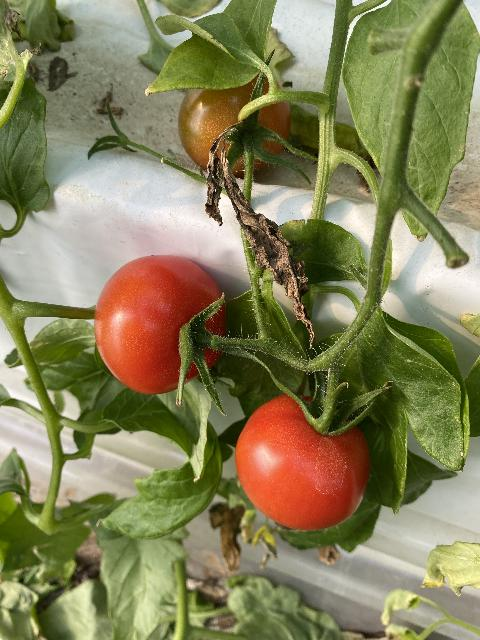l_fully_ripened: (234, 394, 370, 531), (94, 255, 226, 395)
l_half_ripened: (179, 70, 291, 177)
